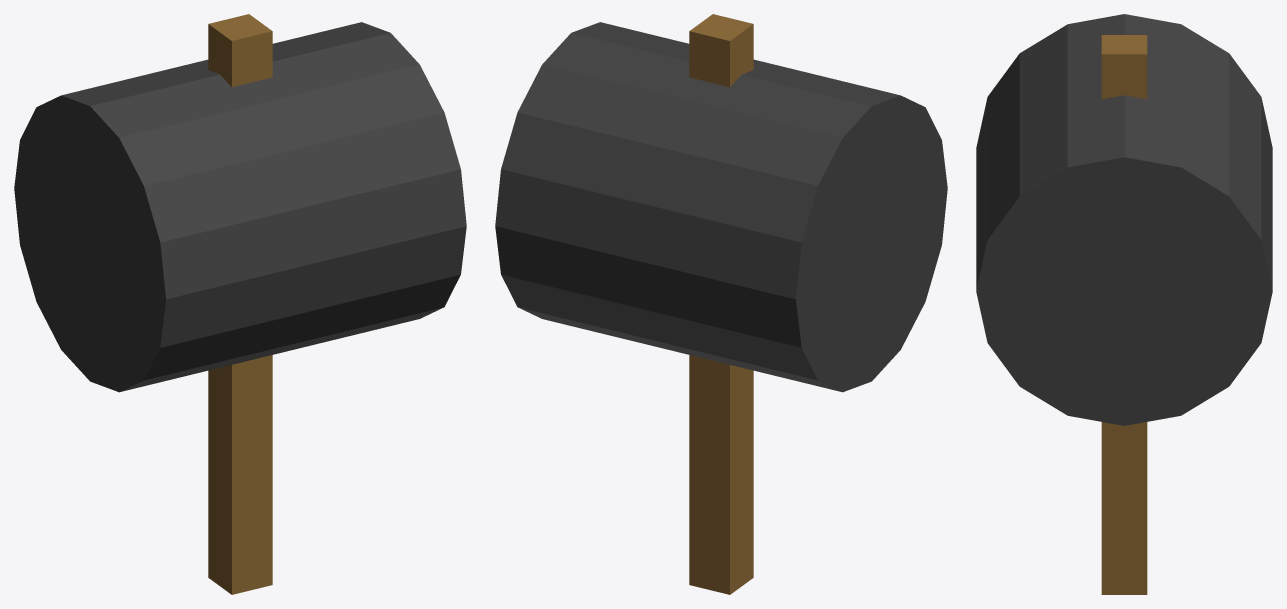
The model's file is SuperHammer.fbx.
3 renders of one model, left to right at view 1: azimuth 30°, elevation 25°; view 2: azimuth 150°, elevation 25°; view 3: azimuth 270°, elevation 25°, orthographic. The views are drawn at different scales.
Visible parts, largest first — view 1: Super_Hammer; view 2: Super_Hammer; view 3: Super_Hammer.
Boxes of the visible parts, bbox=[...] form: Super_Hammer: bbox=[14, 14, 466, 594]; Super_Hammer: bbox=[495, 14, 947, 594]; Super_Hammer: bbox=[976, 14, 1272, 594].
Size of the model in its own units: 160 by 282 by 140.
